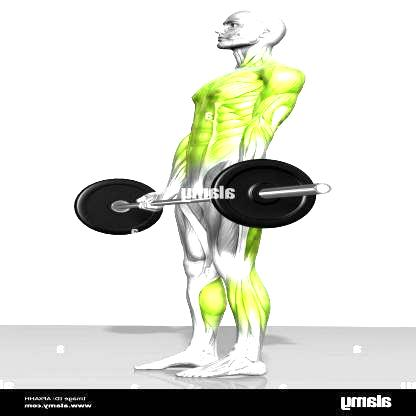Barbell: (308, 183, 334, 196)
